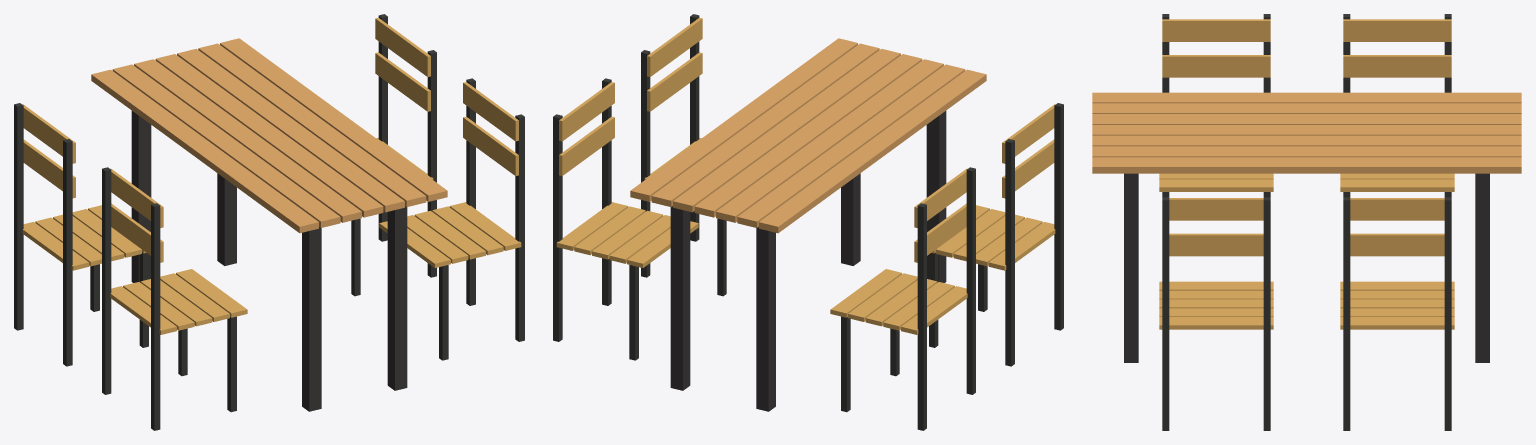
Rendered from Wooden Chair Scene.fbx.
3 renders of one model, left to right at view 1: azimuth 30°, elevation 25°; view 2: azimuth 150°, elevation 25°; view 3: azimuth 270°, elevation 25°, orthographic. The views are drawn at different scales.
Parts seen in each view (by area): view 1: Wooden Table, Chair-Wood, Chair-Metal, Wooden Table-feets; view 2: Wooden Table, Chair-Wood, Chair-Metal, Wooden Table-feets; view 3: Wooden Table, Chair-Wood, Chair-Metal, Wooden Table-feets.
Part boxes in pixels (x1=…): Wooden Table: x1=91, y1=38, x2=447, y2=233; Chair-Wood: x1=22, y1=17, x2=521, y2=334; Chair-Metal: x1=14, y1=14, x2=524, y2=430; Wooden Table-feets: x1=131, y1=111, x2=407, y2=411; Wooden Table: x1=630, y1=38, x2=986, y2=233; Chair-Wood: x1=556, y1=17, x2=1055, y2=334; Chair-Metal: x1=553, y1=14, x2=1063, y2=430; Wooden Table-feets: x1=670, y1=111, x2=946, y2=411; Wooden Table: x1=1092, y1=92, x2=1521, y2=173; Chair-Wood: x1=1159, y1=19, x2=1454, y2=329; Chair-Metal: x1=1162, y1=14, x2=1451, y2=430; Wooden Table-feets: x1=1124, y1=173, x2=1489, y2=362.
Size of the model in its own units: 119 by 68.71 by 116.
